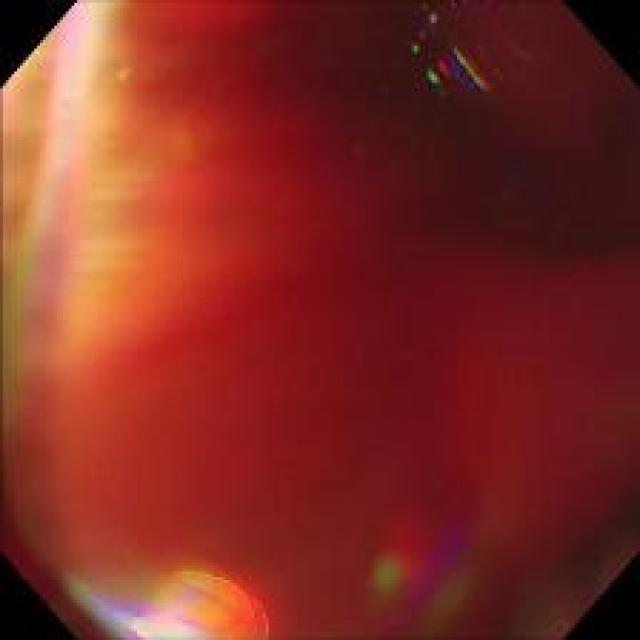color misalignment: (0, 1, 638, 639), (64, 561, 268, 635), (369, 506, 471, 619), (428, 41, 496, 101), (396, 5, 441, 58)
contrast: (512, 81, 629, 254)
